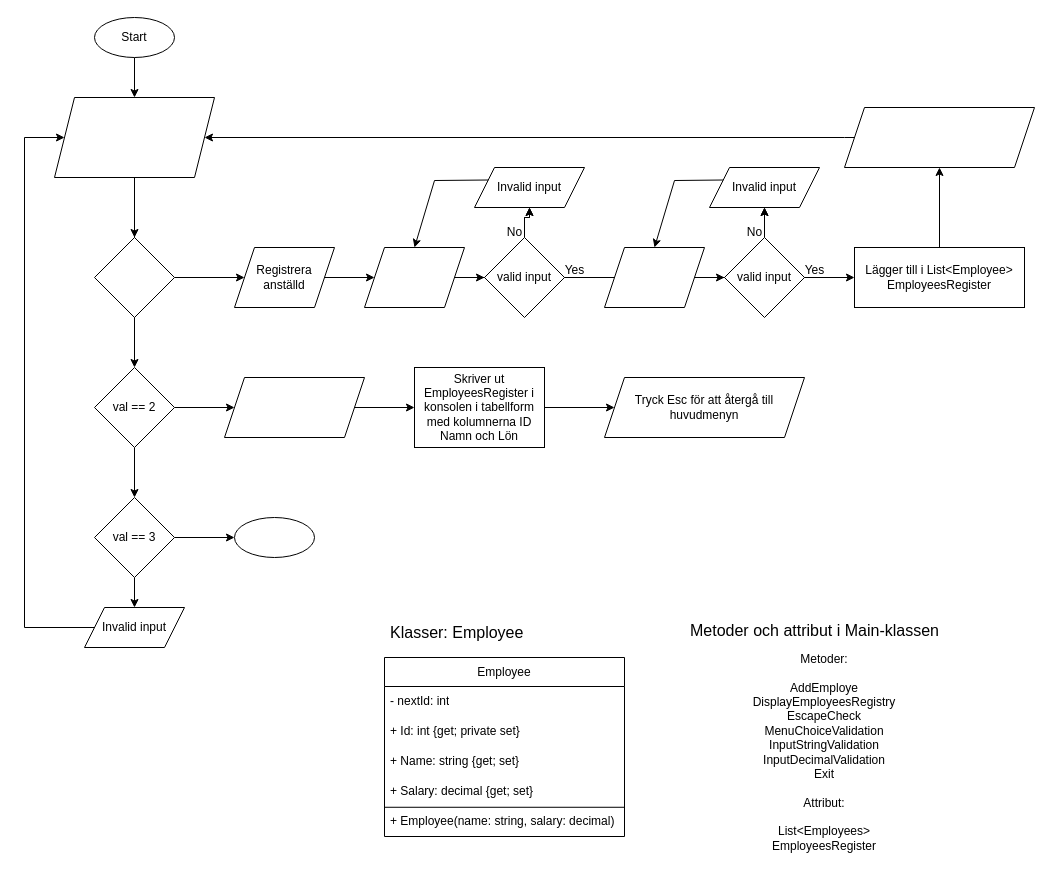
The diagram is 1052 pixels wide and 885 high, and some of its shapes have lost their labels. The centre of each missing label's shape, as x and y in pixels:
"Lön" goes at [654,277].
"Meny 1. Lägg till anställd 2. Visa alla anställda 3. Avsluta" goes at [134,137].
"Namn" goes at [414,277].
"Stop" goes at [274,537].
"Tillagd Tryck Esc för att återgå till huvudmenyn" goes at [939,137].
"val ==1" goes at [134,277].
"Visa alla anställda" goes at [294,407].
